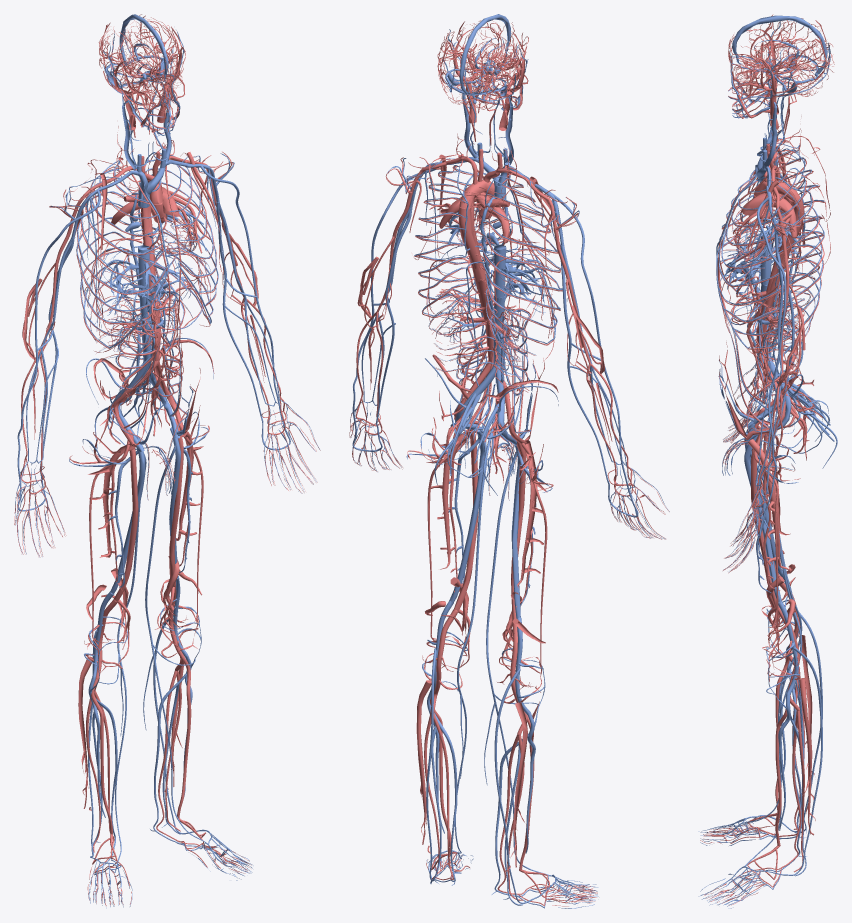
File: vessels.glb
The picture shows the model from 3 angles, left to right: view 1: azimuth 30°, elevation 25°; view 2: azimuth 150°, elevation 25°; view 3: azimuth 270°, elevation 25°; orthographic projection. The views are drawn at different scales.
Visible parts, largest first — view 1: set_of_anterior_intercostal_veins|0|vein, posterior_intercostal_arteries|0|artery, set_of_dorsal_digital_arteries|0|artery, great_saphenous_vein|1|vein, femoral_artery|-1|artery, great_saphenous_vein|-1|vein, cephalic_vein|-1|vein, femoral_artery|1|artery, inferior_vena_cava|0|vein, set_of_perforating_arteries|0|artery, cephalic_vein|1|vein, femoral_vein|-1|vein (+3 smaller); view 2: set_of_anterior_intercostal_veins|0|vein, posterior_intercostal_arteries|0|artery, set_of_dorsal_digital_arteries|0|artery, great_saphenous_vein|-1|vein, great_saphenous_vein|1|vein, descending_aorta|0|artery, femoral_vein|1|vein, femoral_vein|-1|vein, inferior_vena_cava|0|vein, femoral_artery|1|artery, cephalic_vein|-1|vein, fibular_artery|1|artery (+11 smaller); view 3: set_of_anterior_intercostal_veins|0|vein, posterior_intercostal_arteries|0|artery, cephalic_vein|1|vein, set_of_dorsal_digital_arteries|0|artery, superior_sagittal_sinus|0|vein, fibular_artery|1|artery, femoral_artery|1|artery, descending_aorta|0|artery, femoral_vein|1|vein, small_saphenous_vein|1|vein, great_saphenous_vein|1|vein, great_saphenous_vein|-1|vein (+24 smaller).
Part boxes in pixels (left/top/right/bottom): set_of_anterior_intercostal_veins|0|vein: left=76, top=152, right=218, bottom=347; posterior_intercostal_arteries|0|artery: left=76, top=160, right=218, bottom=349; set_of_dorsal_digital_arteries|0|artery: left=14, top=424, right=316, bottom=852; great_saphenous_vein|1|vein: left=143, top=445, right=205, bottom=842; femoral_artery|-1|artery: left=113, top=429, right=138, bottom=602; great_saphenous_vein|-1|vein: left=115, top=451, right=146, bottom=863; cephalic_vein|-1|vein: left=17, top=190, right=100, bottom=482; femoral_artery|1|artery: left=169, top=419, right=183, bottom=587; inferior_vena_cava|0|vein: left=138, top=245, right=151, bottom=361; set_of_perforating_arteries|0|artery: left=103, top=427, right=191, bottom=581; cephalic_vein|1|vein: left=200, top=164, right=282, bottom=418; femoral_vein|-1|vein: left=110, top=451, right=145, bottom=593; set_of_anterior_intercostal_veins|0|vein: left=414, top=165, right=562, bottom=355; posterior_intercostal_arteries|0|artery: left=414, top=185, right=562, bottom=355; set_of_dorsal_digital_arteries|0|artery: left=349, top=423, right=665, bottom=900; great_saphenous_vein|-1|vein: left=484, top=451, right=549, bottom=875; great_saphenous_vein|1|vein: left=454, top=445, right=487, bottom=853; descending_aorta|0|artery: left=458, top=205, right=493, bottom=361; femoral_vein|1|vein: left=449, top=434, right=484, bottom=604; femoral_vein|-1|vein: left=511, top=445, right=520, bottom=618; inferior_vena_cava|0|vein: left=493, top=244, right=506, bottom=366; femoral_artery|1|artery: left=453, top=429, right=478, bottom=612; cephalic_vein|-1|vein: left=545, top=189, right=629, bottom=492; fibular_artery|1|artery: left=416, top=680, right=431, bottom=844; set_of_anterior_intercostal_veins|0|vein: left=718, top=148, right=824, bottom=349; posterior_intercostal_arteries|0|artery: left=718, top=158, right=824, bottom=350; cephalic_vein|1|vein: left=757, top=196, right=786, bottom=510; set_of_dorsal_digital_arteries|0|artery: left=724, top=381, right=804, bottom=872; superior_sagittal_sinus|0|vein: left=732, top=15, right=827, bottom=74; fibular_artery|1|artery: left=799, top=678, right=815, bottom=834; femoral_artery|1|artery: left=751, top=433, right=779, bottom=608; descending_aorta|0|artery: left=757, top=199, right=804, bottom=354; femoral_vein|1|vein: left=744, top=444, right=781, bottom=602; small_saphenous_vein|1|vein: left=782, top=647, right=822, bottom=875; great_saphenous_vein|1|vein: left=745, top=452, right=802, bottom=866; great_saphenous_vein|-1|vein: left=745, top=427, right=802, bottom=822.
Size of the model in its own units: 0.6489 by 1.72 by 0.2536.
